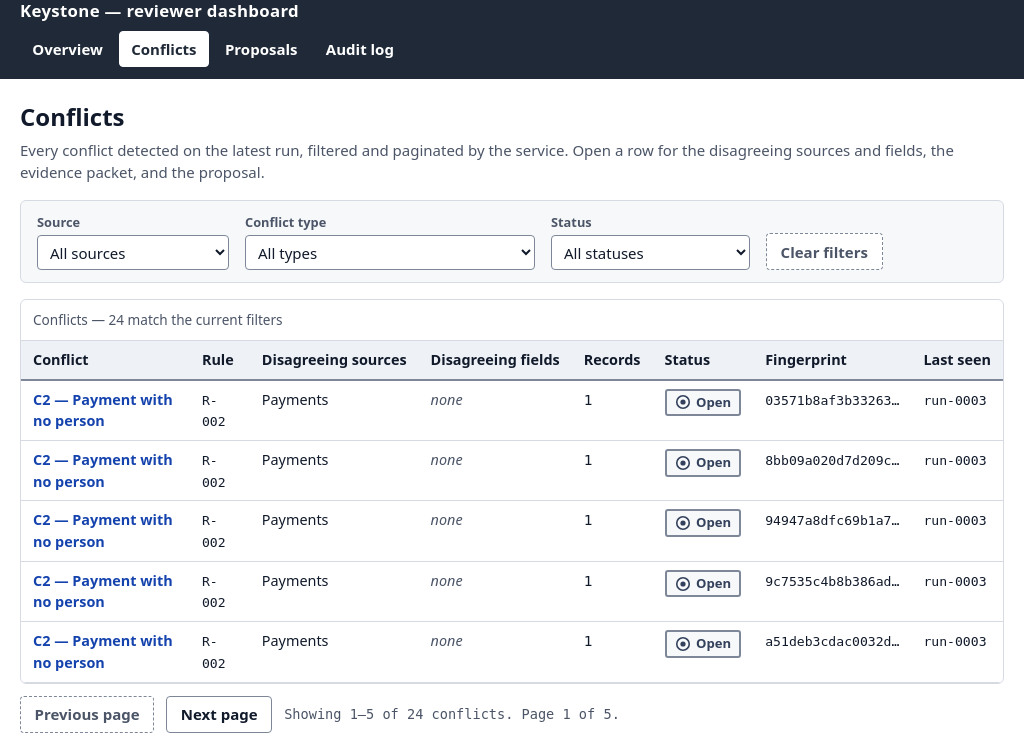
Scenario: /conflicts — pagination › advances to the next page and shows different rows
The image size is (1024, 754).
Expected: the table "Conflicts" is shown, [21, 300, 1003, 682]
Click the button "Next page" at (219, 714), box [166, 696, 272, 733]
(page scrolled)
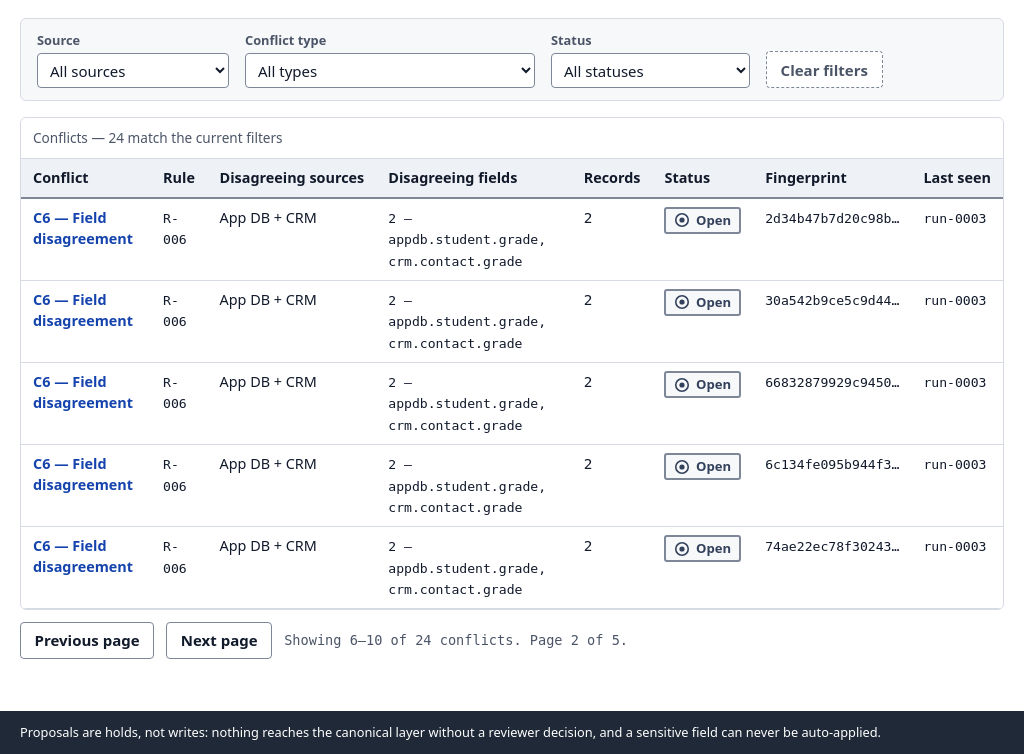
Now the text with test id "pagination-status" reads "Showing 6–10 of 24 conflicts. Page 2 of 5.", box [284, 630, 628, 651]
